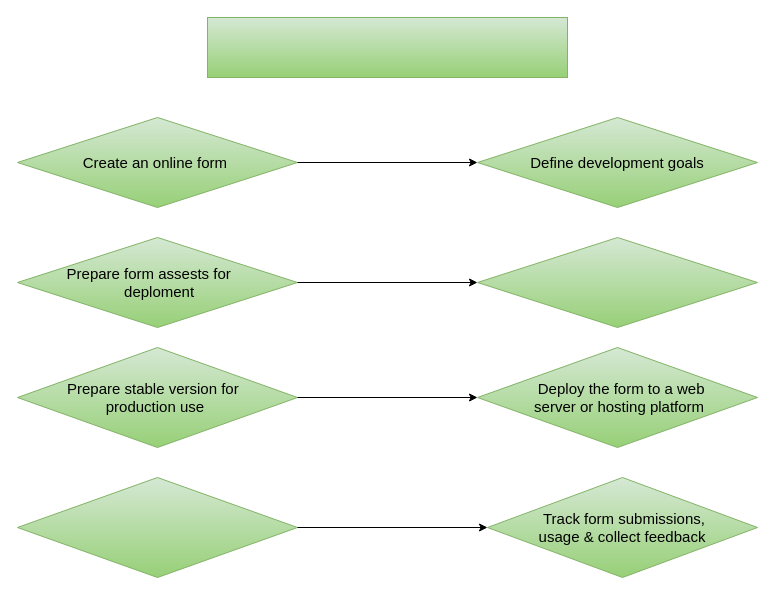
Some shapes in this 775 by 595 pixel diagram are drawn without their labels. Here are the shapes that lost their labels. From the top down, the centre of each, then its label:
the point at 387,47: YOGA DAY VOLUNTEER LIFECYCLE
the point at 617,282: Funtional & Security Testing
the point at 157,527: Monitor volunteer subnissions
